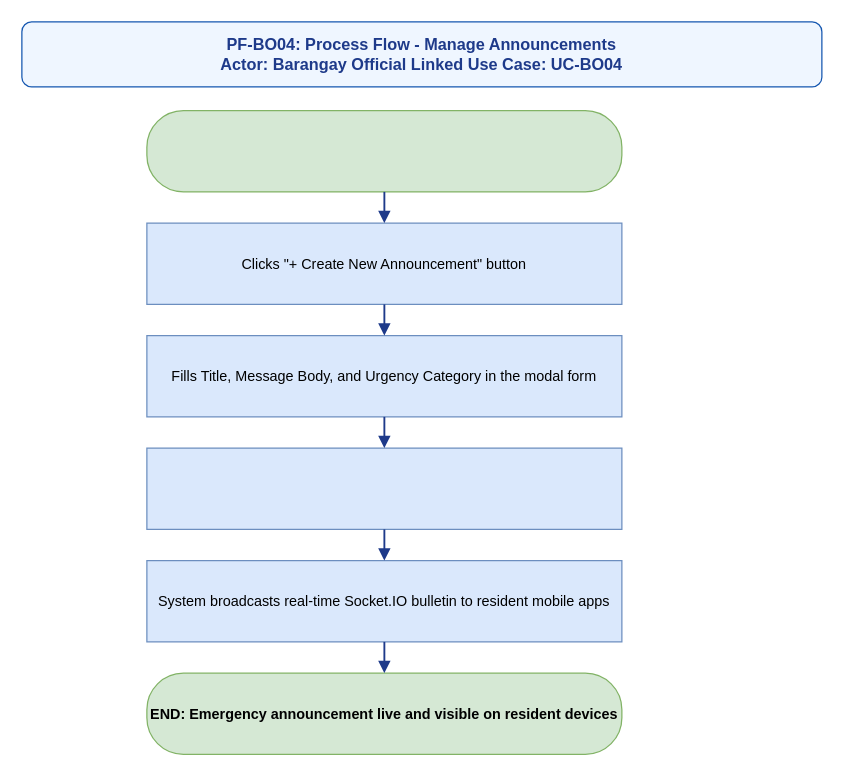
This 844x776 diagram has some shape labels left out. The shapes that lost their labels are listed below. From the top down, each one's centre as x and y in pixels, then its label:
At point (384, 150): "START: Barangay Official opens AnnouncementsPage.jsx".
At point (384, 488): "Submits via POST /api/announcements with official barangay scope".
